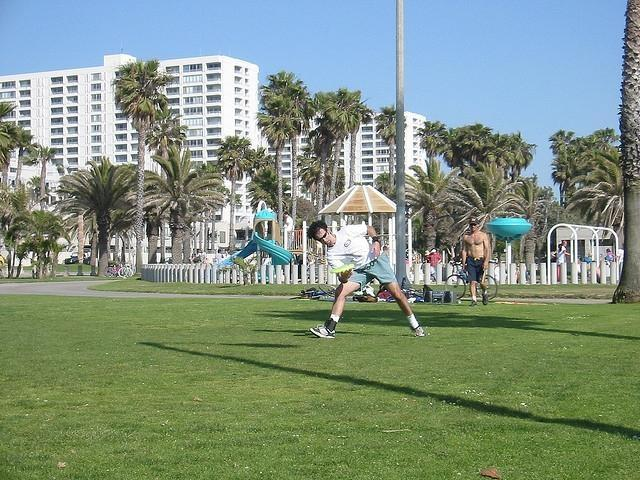bicycle: (290, 281, 334, 302), (446, 263, 464, 300), (477, 274, 498, 300), (103, 264, 128, 278), (418, 296, 423, 299)
car: (84, 248, 92, 265), (165, 256, 172, 264)
